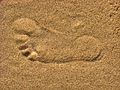human_foot_print: (13, 18, 102, 62)
